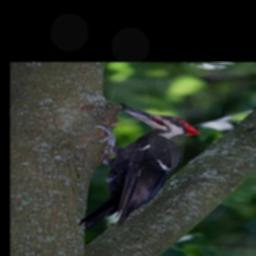Woodpecker: (78, 104, 202, 230)
